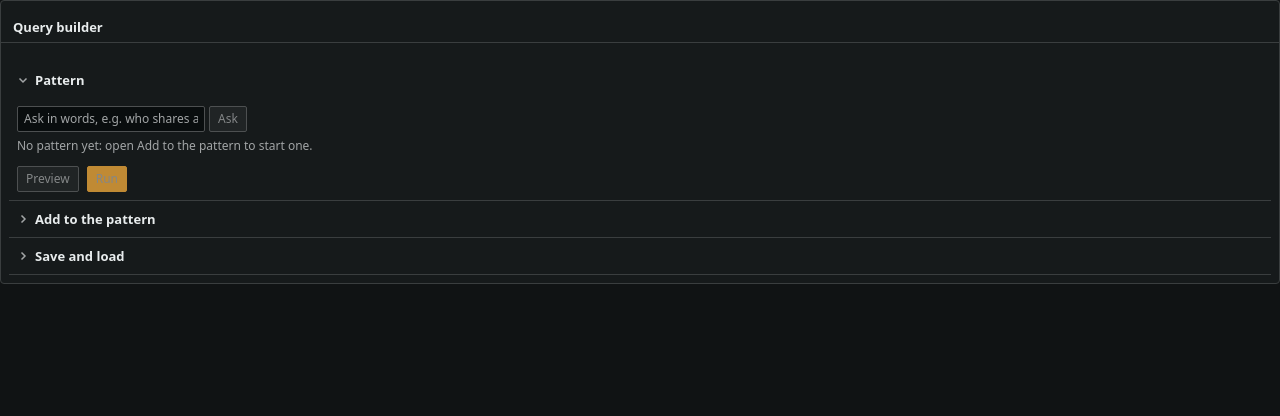
QueryBuilderPanel ask to search › draws the proposed pattern with its explanation and count, sending the selection and running nothing
The width and height of the screenshot is (1280, 416).
Type "Who visited the principal?" into the field named "Ask to search" at {"x": 111, "y": 119}, box [17,106,205,132]
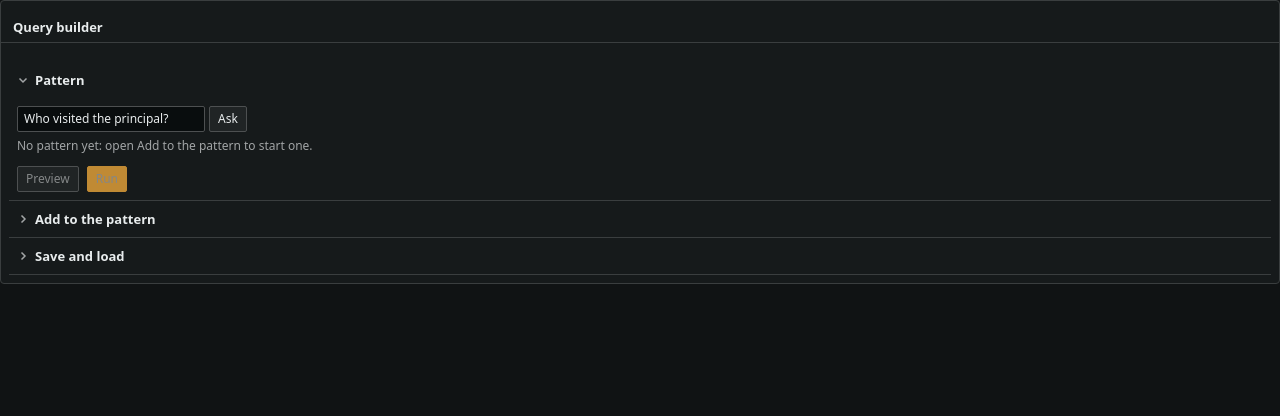
Click the button "Ask" at {"x": 228, "y": 119}, box [209,106,247,132]
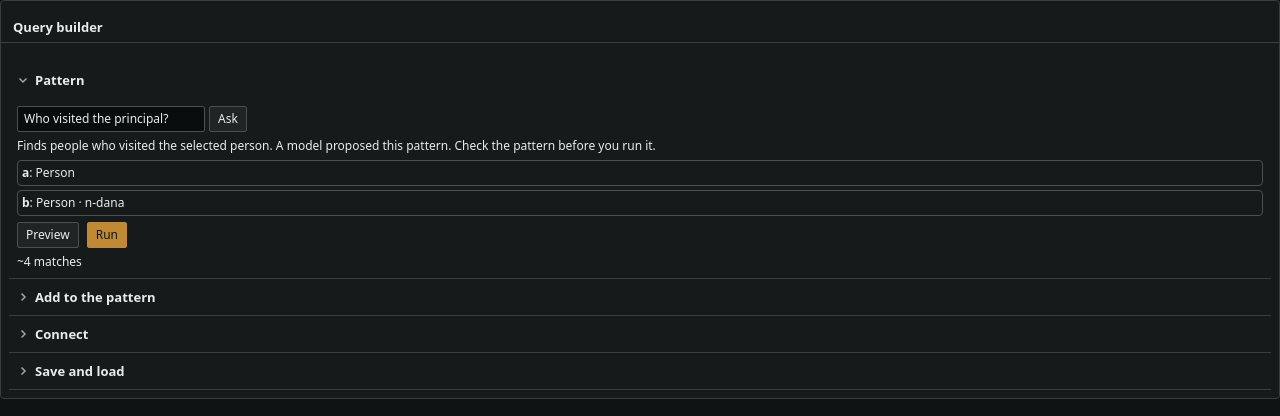
Check: the text "Finds people who visited the selected person." is shown, box [17,137,273,154]
Check: the element named "Pattern node a: Person" is shown, box [17,160,1263,186]
Check: the element named "Pattern node b: Person · n-dana" is shown, box [17,190,1263,216]
